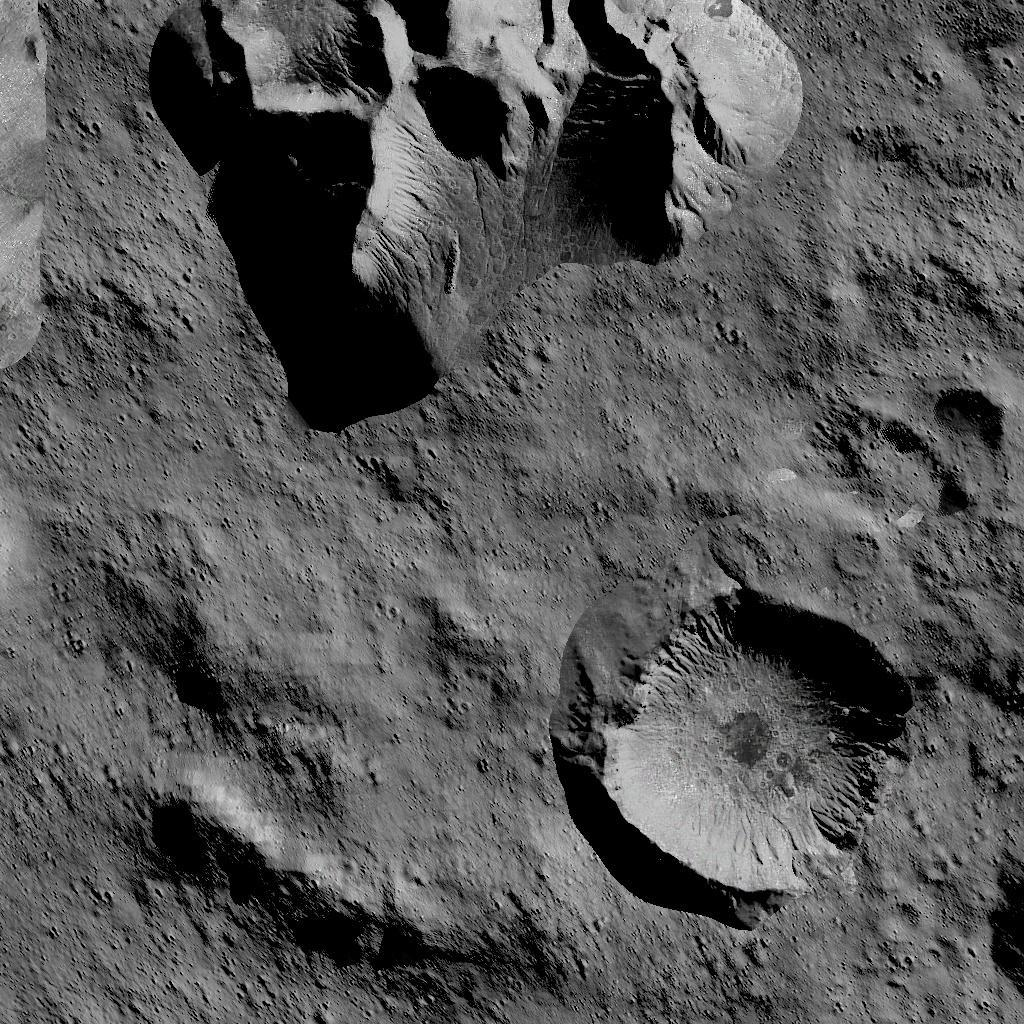Boulders: (151, 0, 803, 428), (126, 778, 576, 980), (0, 0, 43, 368)
Crater: (588, 588, 912, 898)
Plan surface: (818, 0, 1024, 383), (0, 628, 113, 1024), (591, 910, 983, 1024)
